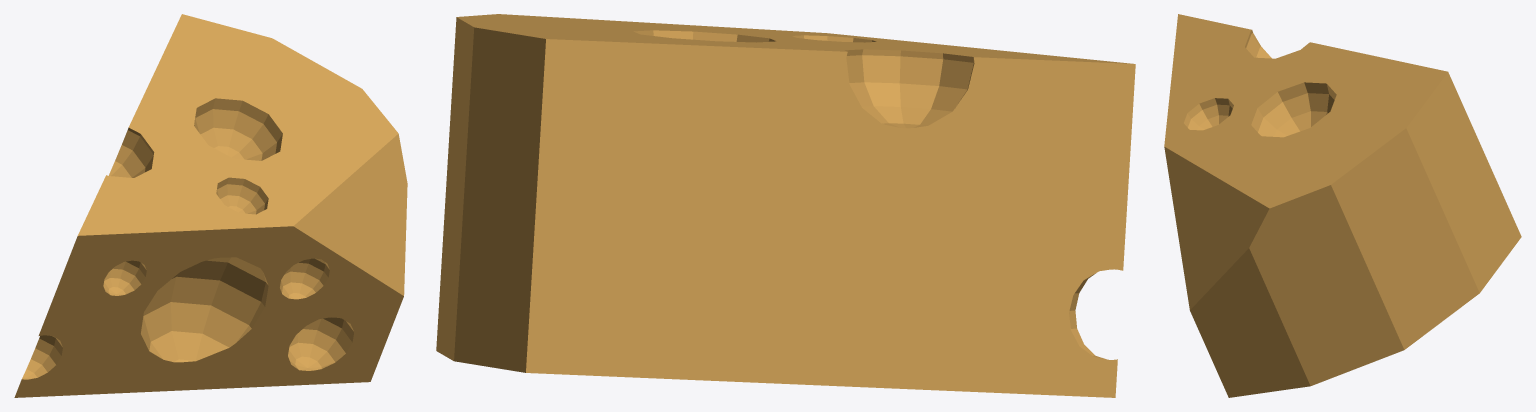
Rendered from cheese.glb.
3 renders of one model, left to right at view 1: azimuth 30°, elevation 25°; view 2: azimuth 150°, elevation 25°; view 3: azimuth 270°, elevation 25°, orthographic. The views are drawn at different scales.
Parts seen in each view (by area): view 1: Cylinder; view 2: Cylinder; view 3: Cylinder.
Boxes of the visible parts, x1,y1,x2,y2 form: Cylinder: (14,14,407,397); Cylinder: (436,14,1135,397); Cylinder: (1164,14,1521,397).
Bounding box in the file's own units: 2.24 × 1.65 × 1.83.
